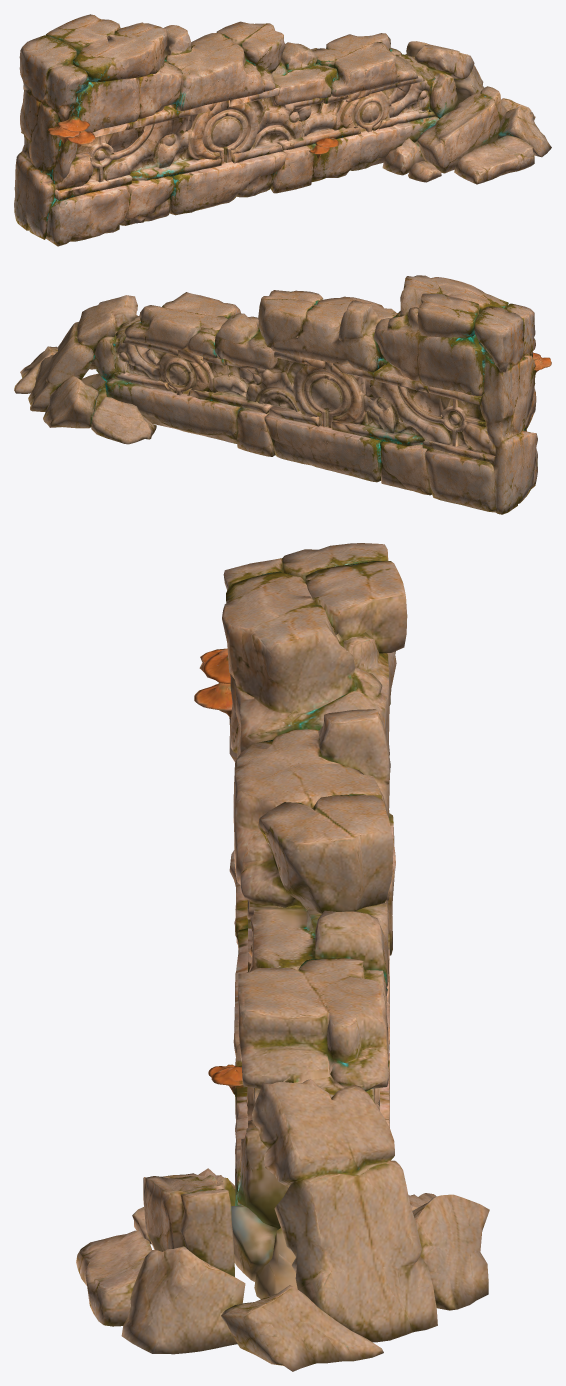
Rendered from citadel_wall.glb.
3 views of the same model, one above another, from view 1: azimuth 30°, elevation 25°; view 2: azimuth 150°, elevation 25°; view 3: azimuth 270°, elevation 25° (orthographic). The views are drawn at different scales.
Size of the model in its own units: 0.958 by 0.3389 by 0.3423.
1 material, 1 textured.
